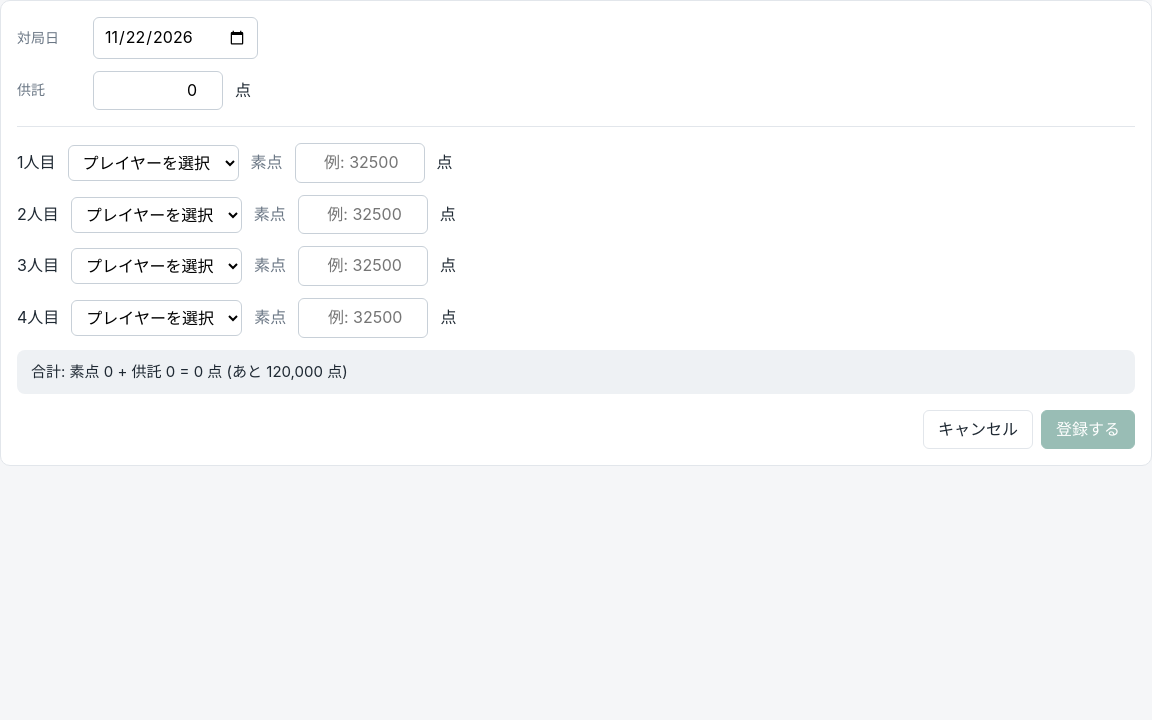
合計の表示と入力チェック › 供託も合計に入る
Replace the text in the number field labelled "供託" with "1000" at (158, 90), box [93,71,223,110]
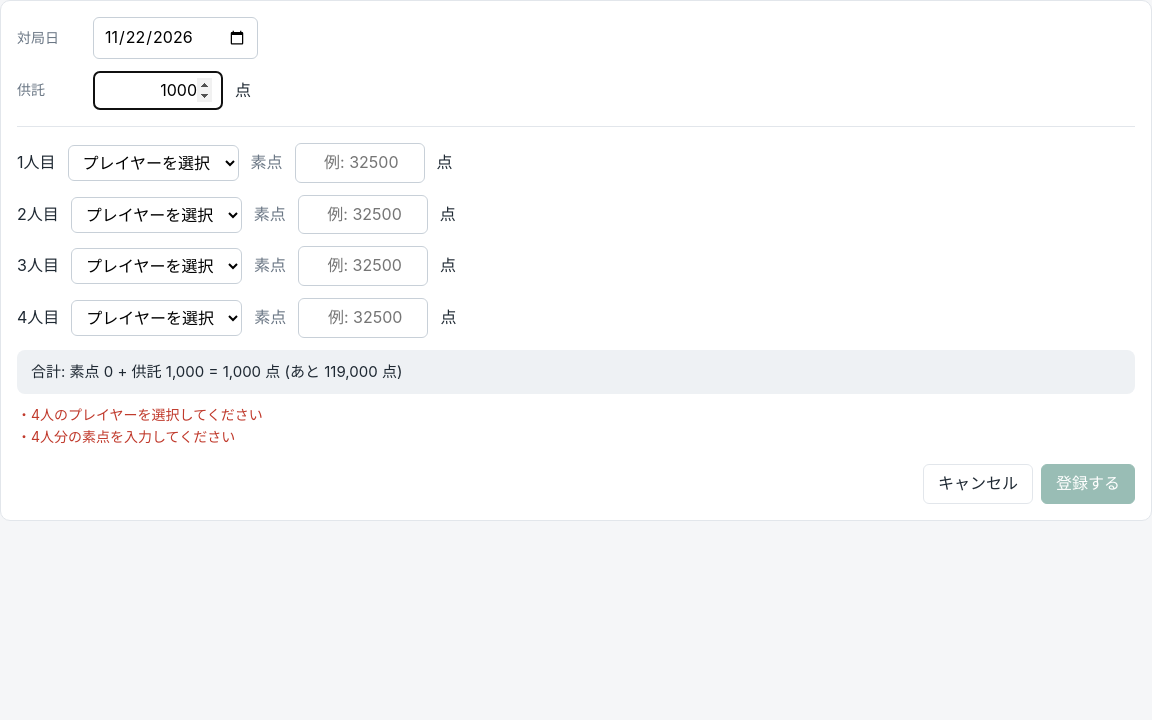
Now the text "合計: 素点 0 + 供託 1,000 = 1,000 点 (あと 119,000 点)" is shown, box [17,350,1135,394]
